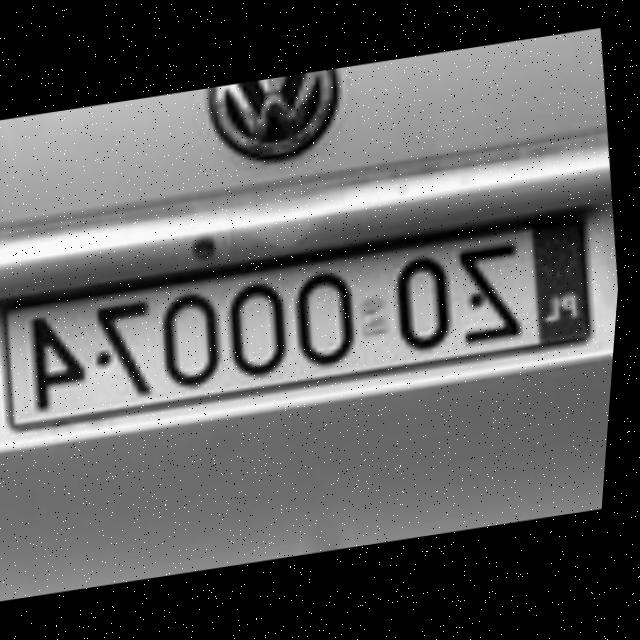license-plates: (4, 219, 590, 428)
